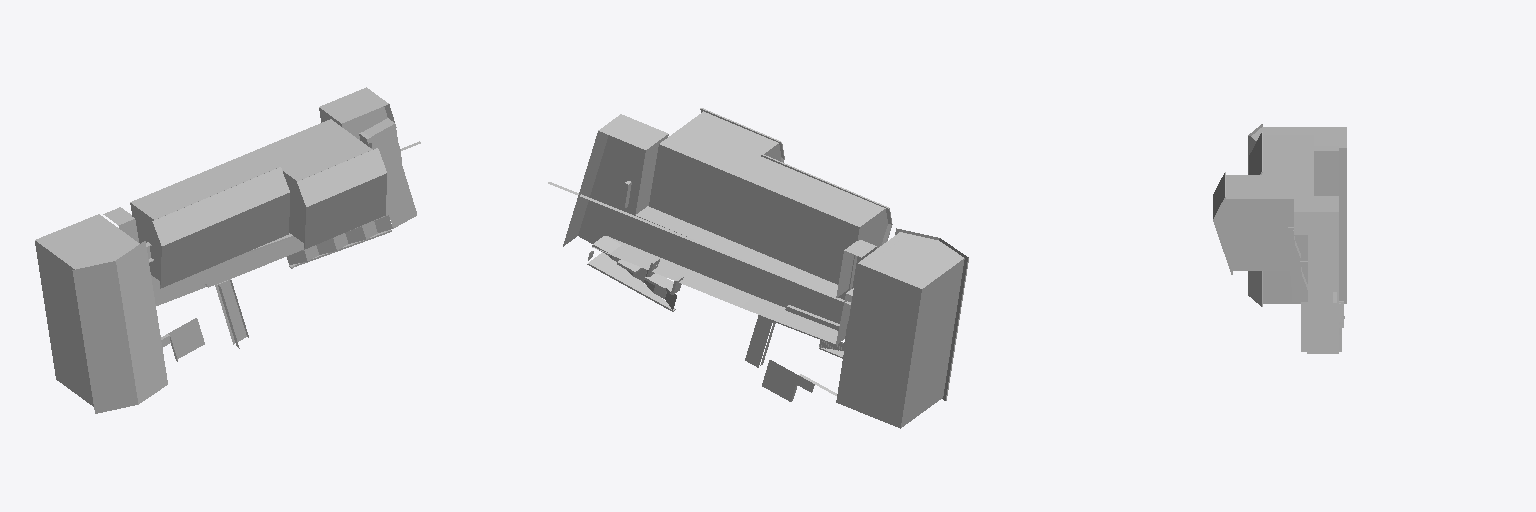
File: oneContext-2.obj
3 renders of one model, left to right at view 1: azimuth 30°, elevation 25°; view 2: azimuth 150°, elevation 25°; view 3: azimuth 270°, elevation 25°, orthographic.
Bounding box in the file's own units: 239 × 134 × 72.33.